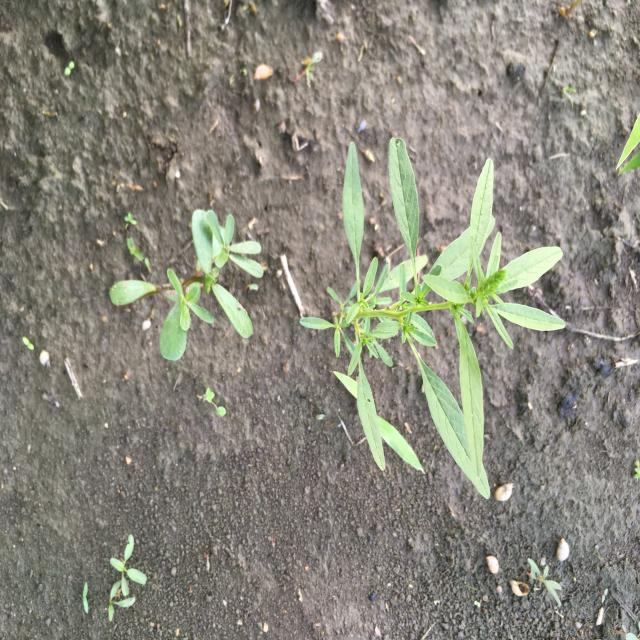Purslane: (108, 208, 265, 362)
Waterhemp: (298, 137, 568, 500)
